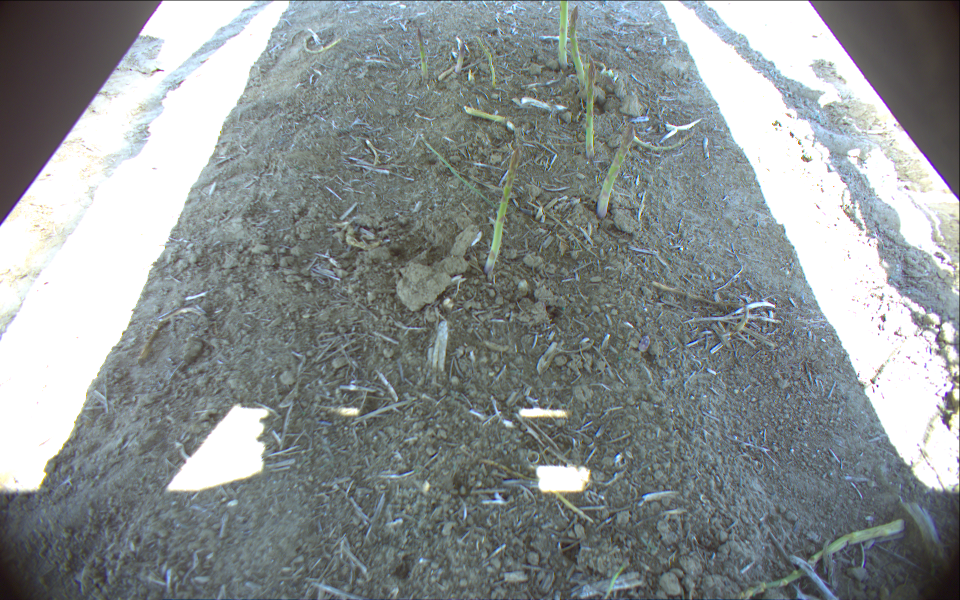aspa: (483, 146, 521, 281), (595, 120, 635, 223), (567, 5, 596, 97), (582, 58, 598, 161), (555, 1, 572, 75), (414, 27, 429, 81), (448, 33, 465, 78)
